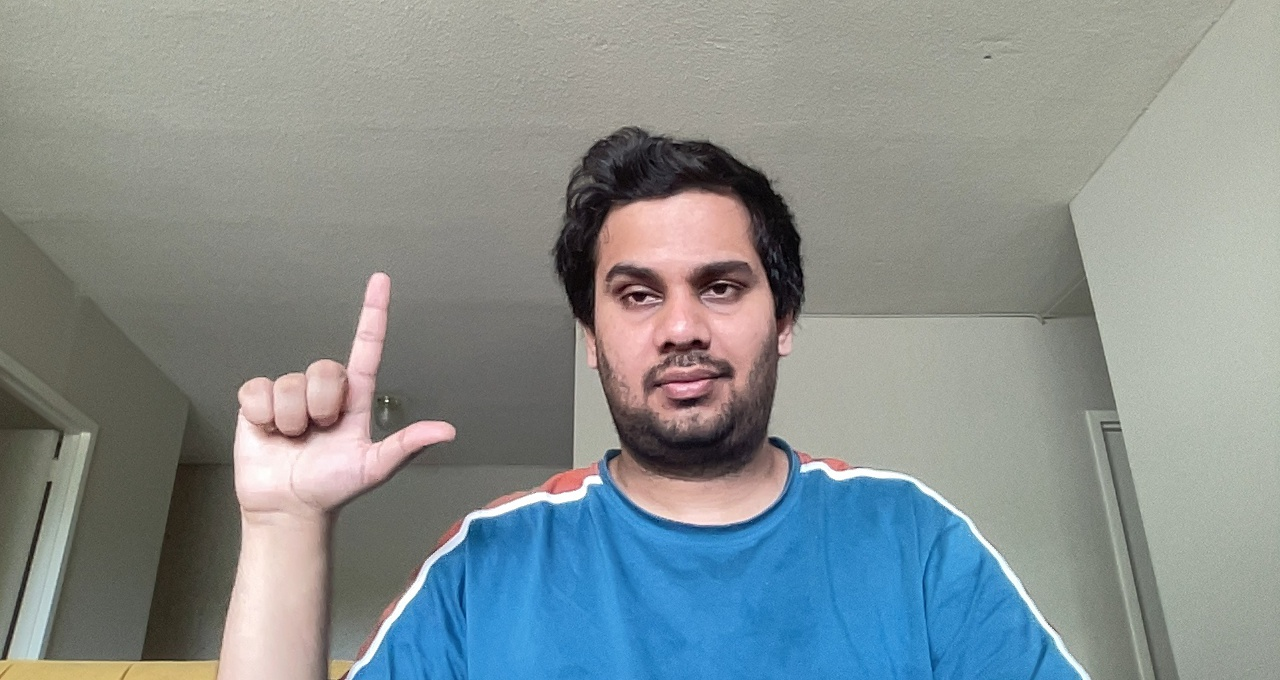L: (217, 261, 467, 542)
